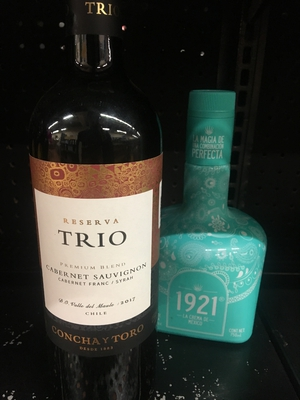trio cabernet sauvignon: (17, 1, 165, 373)
